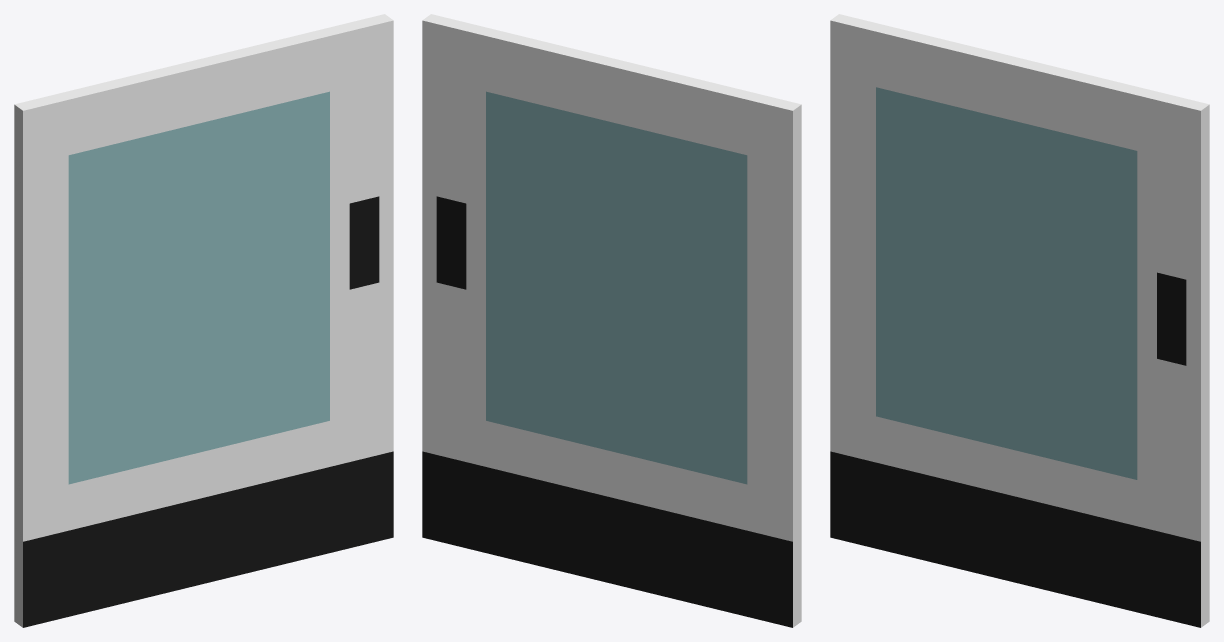
The model's file is Door2.FBX.
3 views of the same model, side by side, from view 1: azimuth 30°, elevation 25°; view 2: azimuth 150°, elevation 25°; view 3: azimuth 330°, elevation 25° (orthographic).
Parts seen in each view (by area): view 1: Box001; view 2: Box001; view 3: Box001.
Part boxes in pixels (<box>): Box001: <box>14,14,393,627</box>; Box001: <box>422,14,801,627</box>; Box001: <box>830,14,1209,627</box>.
Bounding box in the file's own units: 59.06 × 78.74 × 2.44.
